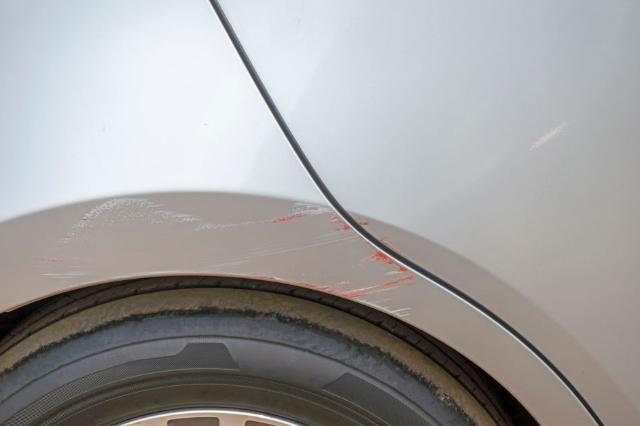Fender: (87, 184, 432, 326)
